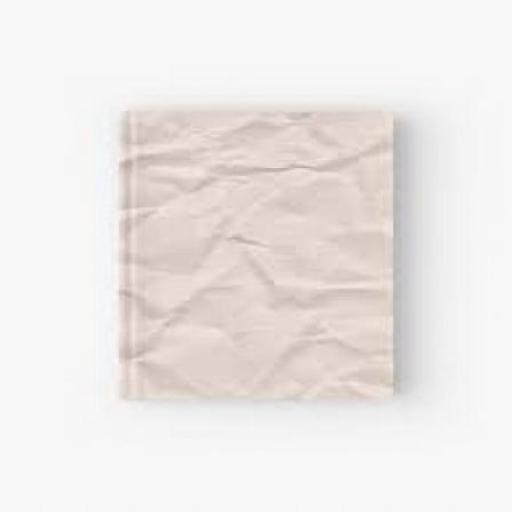paper: (68, 64, 436, 464)
